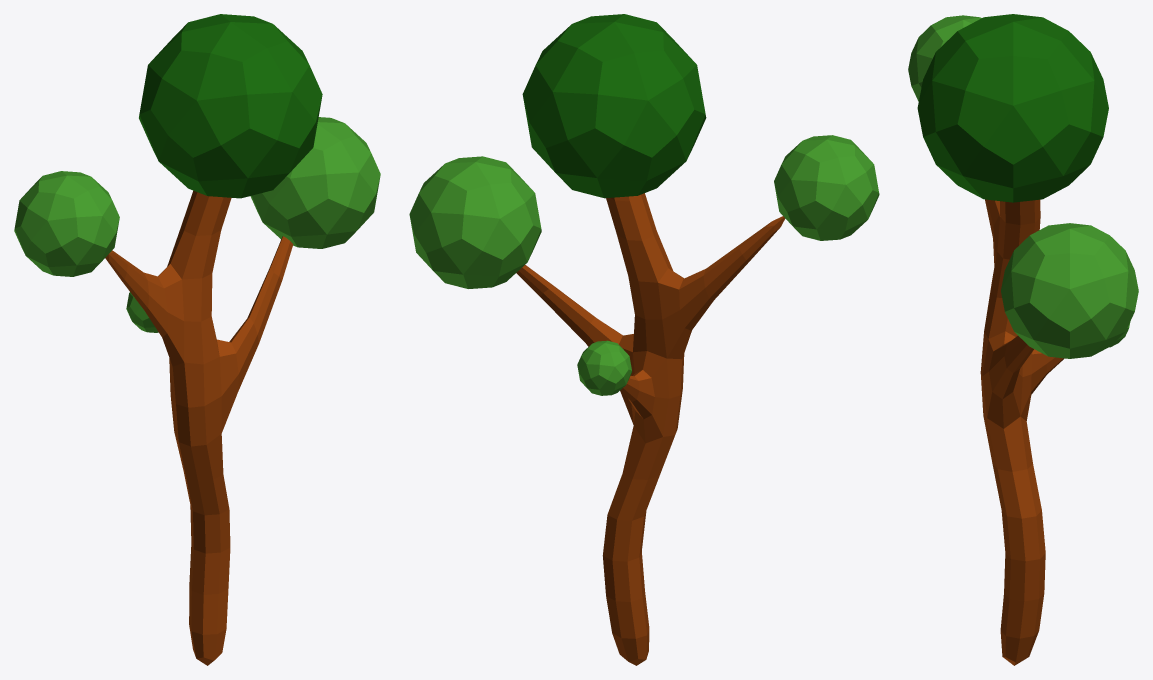
The model's file is TreeToUse.fbx.
3 views of the same model, side by side, from view 1: azimuth 30°, elevation 25°; view 2: azimuth 150°, elevation 25°; view 3: azimuth 270°, elevation 25° (orthographic). The views are drawn at different scales.
Visible parts, largest first — view 1: Cube; view 2: Cube; view 3: Cube.
Boxes of the visible parts, x1,y1,x2,y2 form: Cube: (14, 14, 380, 665); Cube: (409, 14, 879, 665); Cube: (908, 14, 1138, 665).
Bounding box in the file's own units: 149 × 226 × 72.22.
